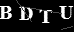B: (1, 5, 13, 20)
D: (18, 6, 34, 21)
T: (38, 9, 54, 24)
U: (57, 5, 74, 20)
